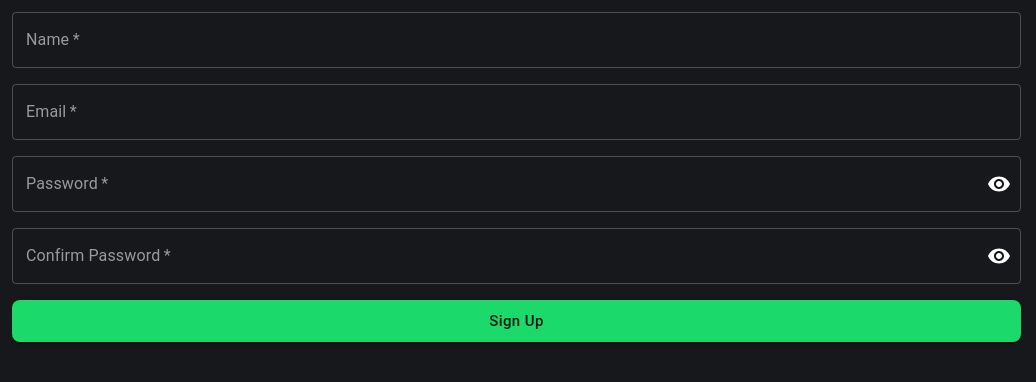
Test: SignUpForm › should show validation error for mismatched passwords
Type "Test User" into the field labelled "Name *" at (516, 40), box [12,12,1021,68]
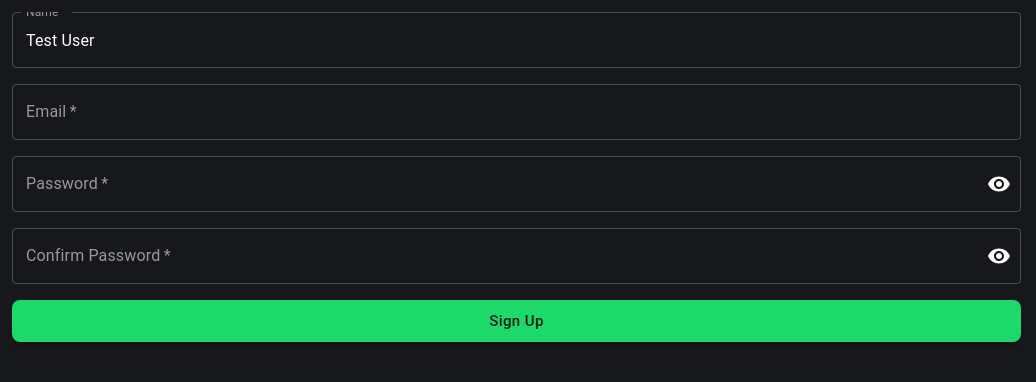
Type "test@example.com" into the field labelled "Email *" at (516, 112), box [12,84,1021,140]
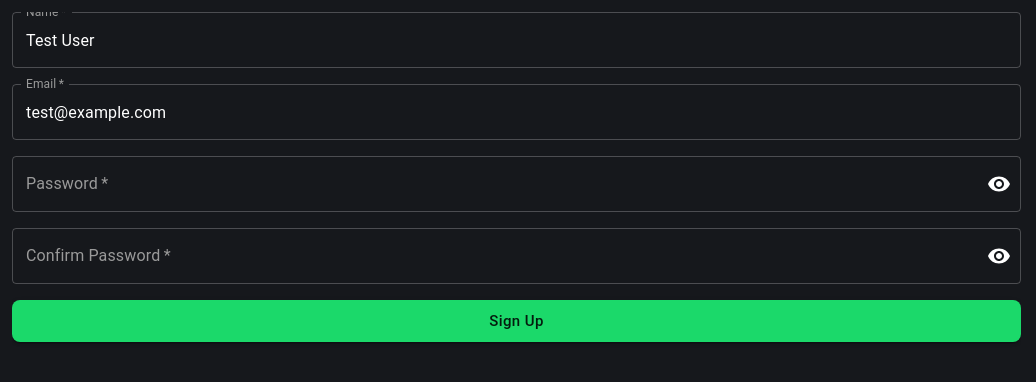
Type "password123" into the password field labelled "Password *" at (492, 184), box [12,156,971,212]
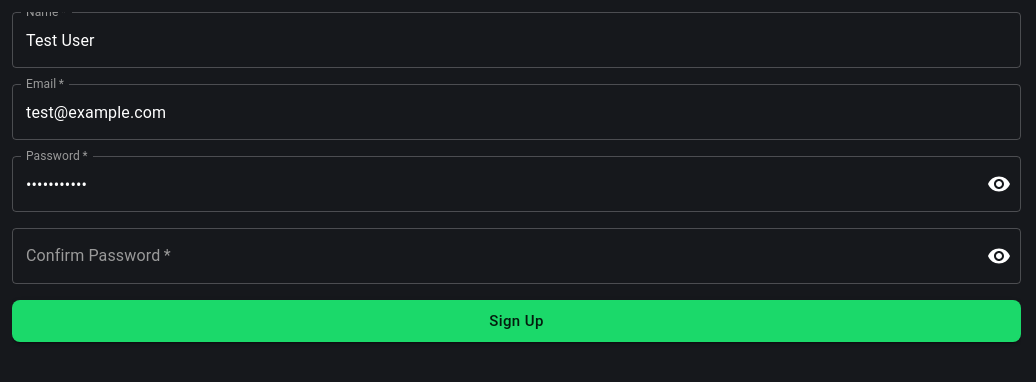
Type "password456" into the password field labelled "Confirm Password *" at (492, 256), box [12,228,971,284]
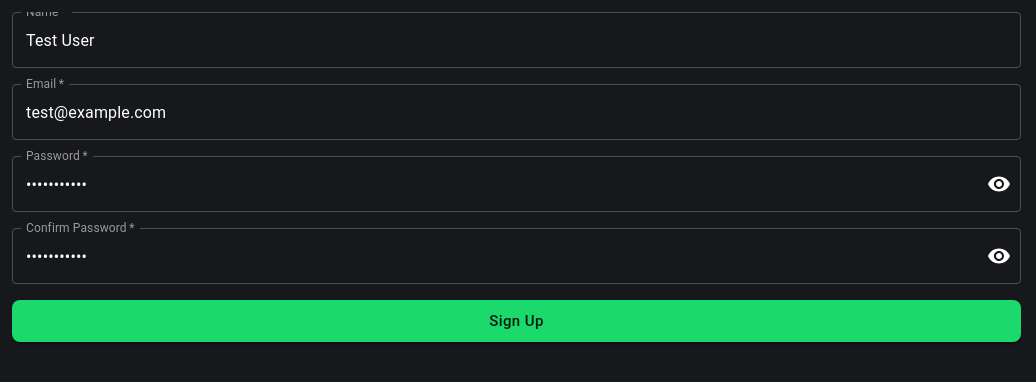
Click the button "Sign Up" at (516, 321), box [12,300,1021,342]
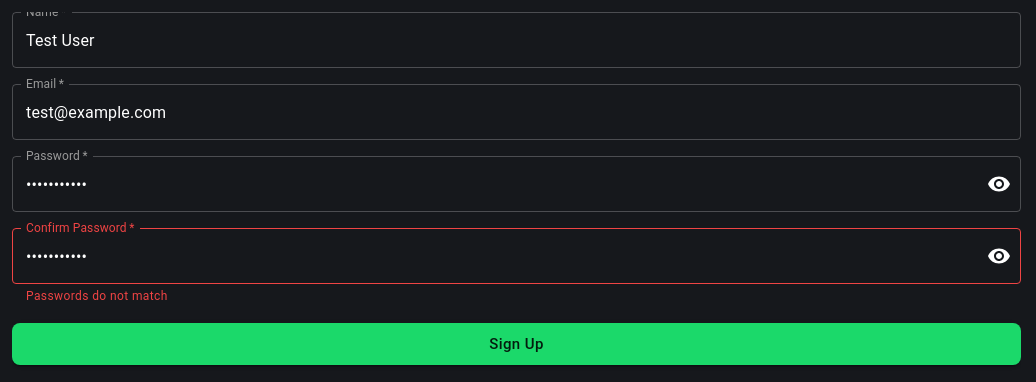
Check: the text "Passwords do not match" is shown, box [26,289,168,303]
